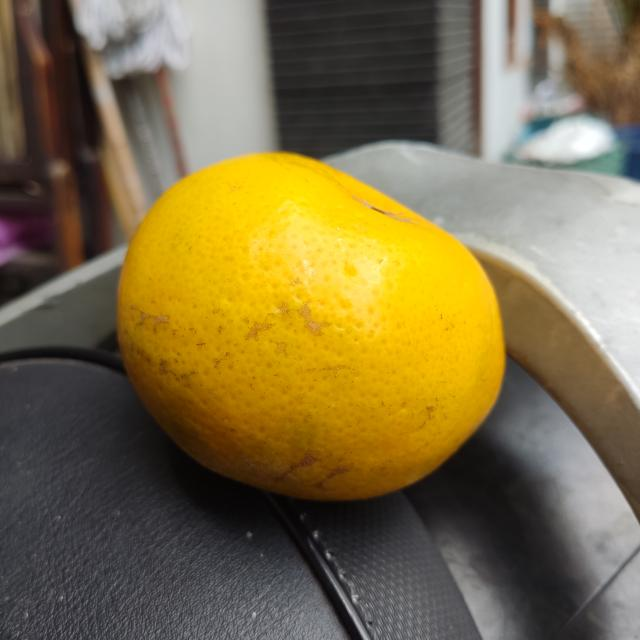orange: (110, 148, 507, 512)
